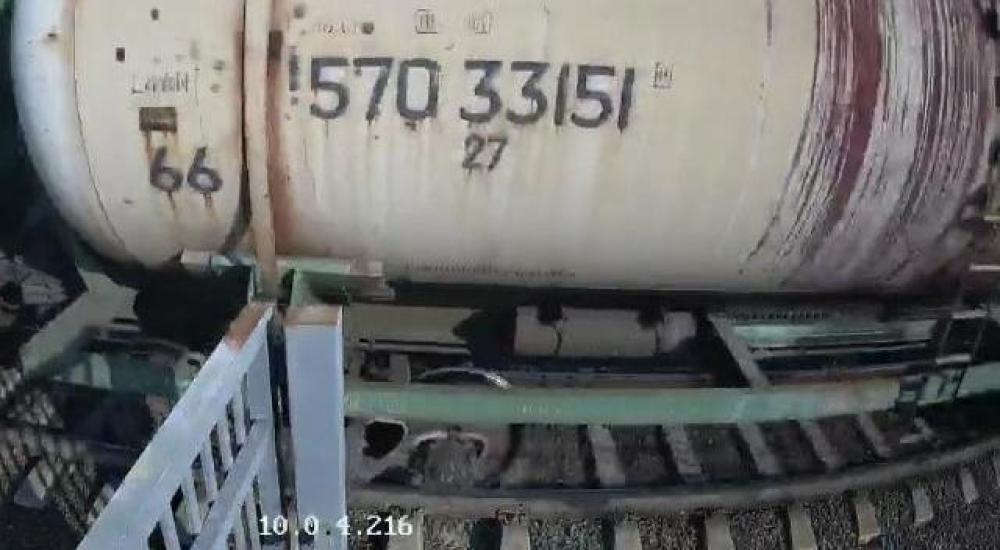Wagon-number: (306, 48, 638, 134)
